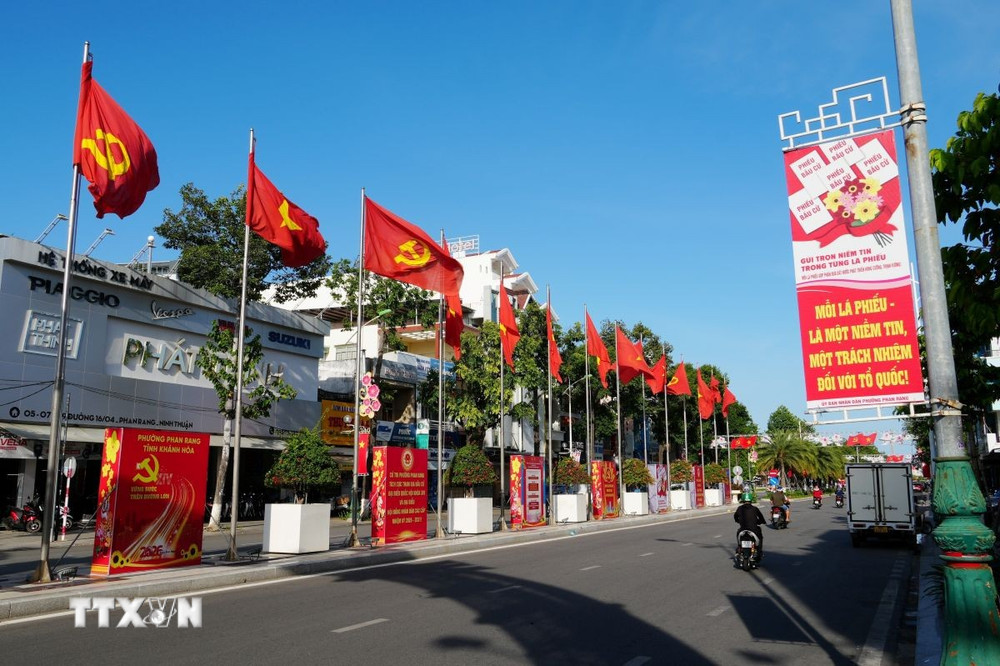bien_so: (739, 538, 753, 550)
